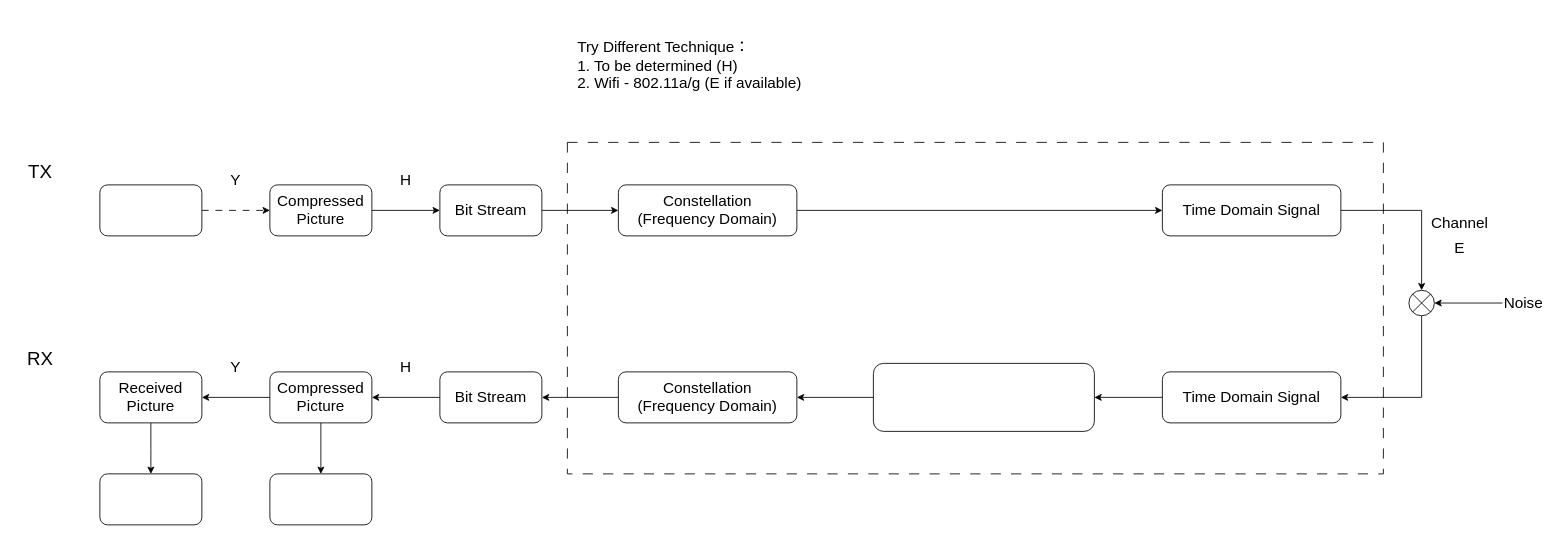
Image size: 1559x540. Some labels were removed from this diagram. The centre of each missing label's shape, as x and y in pixels:
BER: pixel 320 499
Human Observation: pixel 150 499
Original Picture: pixel 150 210
Synchronization, CFO Correction, & Channel Estimation: pixel 983 397
